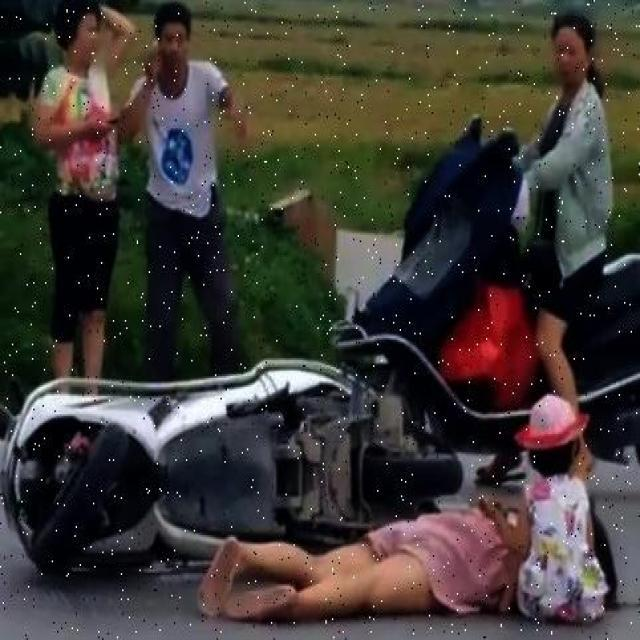fall: (192, 499, 607, 624)
